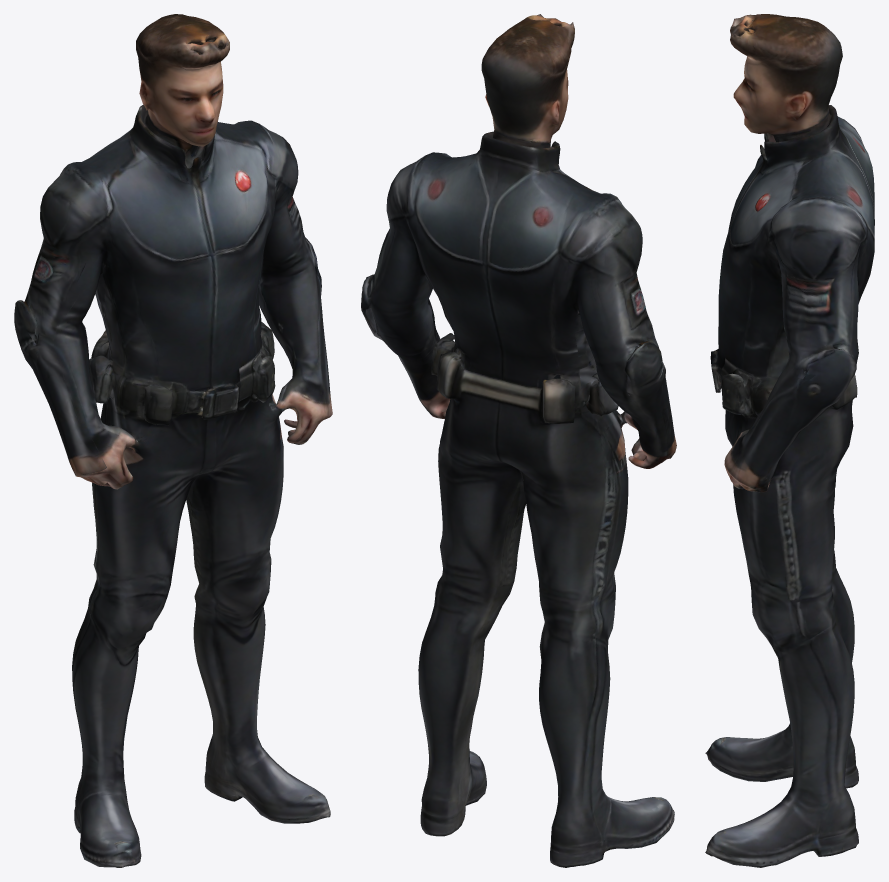
The model's file is Futuristic_Commander_0105153457_texture.glb.
The picture shows the model from 3 angles, left to right: view 1: azimuth 30°, elevation 25°; view 2: azimuth 150°, elevation 25°; view 3: azimuth 270°, elevation 25°; orthographic projection.
Bounding box in the file's own units: 0.7617 × 1.99 × 0.3864.
Materials: 1 (1 with a texture image).
